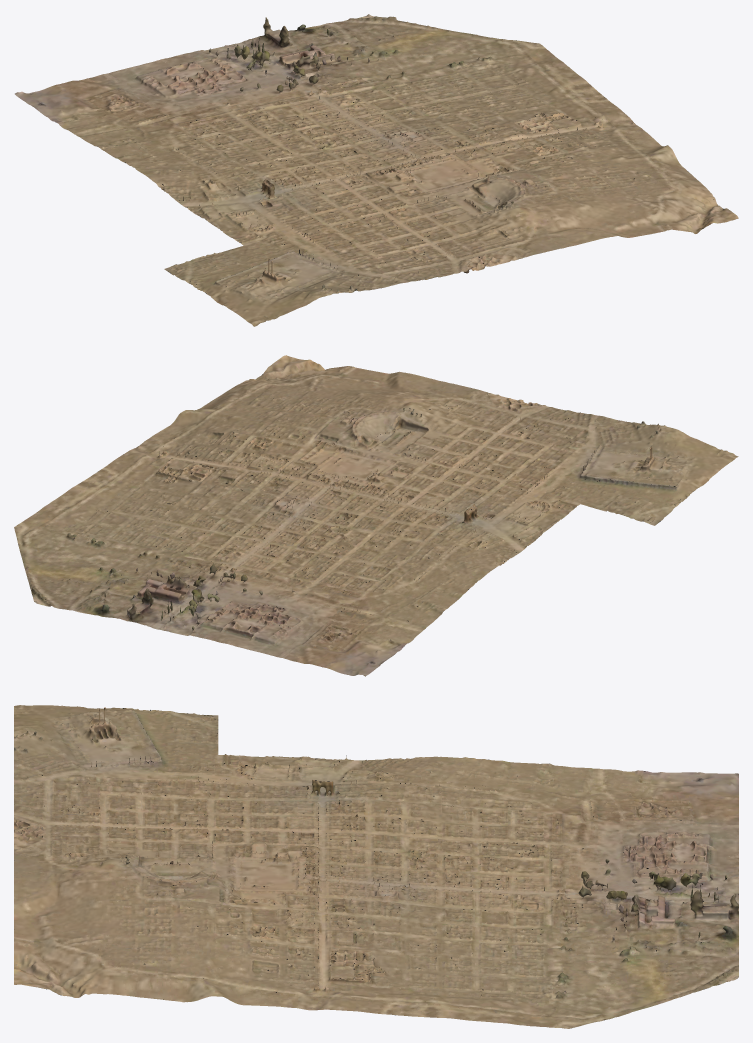
3 views of the same model, one above another, from view 1: azimuth 30°, elevation 25°; view 2: azimuth 150°, elevation 25°; view 3: azimuth 270°, elevation 25° (orthographic). The views are drawn at different scales.
Parts seen in each view (by area): view 1: DZA_001_M6_Context; view 2: DZA_001_M6_Context; view 3: DZA_001_M6_Context.
Part boxes in pixels (bbox=[...]): DZA_001_M6_Context: bbox=[15, 14, 738, 326]; DZA_001_M6_Context: bbox=[14, 355, 738, 676]; DZA_001_M6_Context: bbox=[14, 705, 738, 1028].
Size of the model in its own units: 520 by 50.95 by 543.
1 material, 1 textured.
